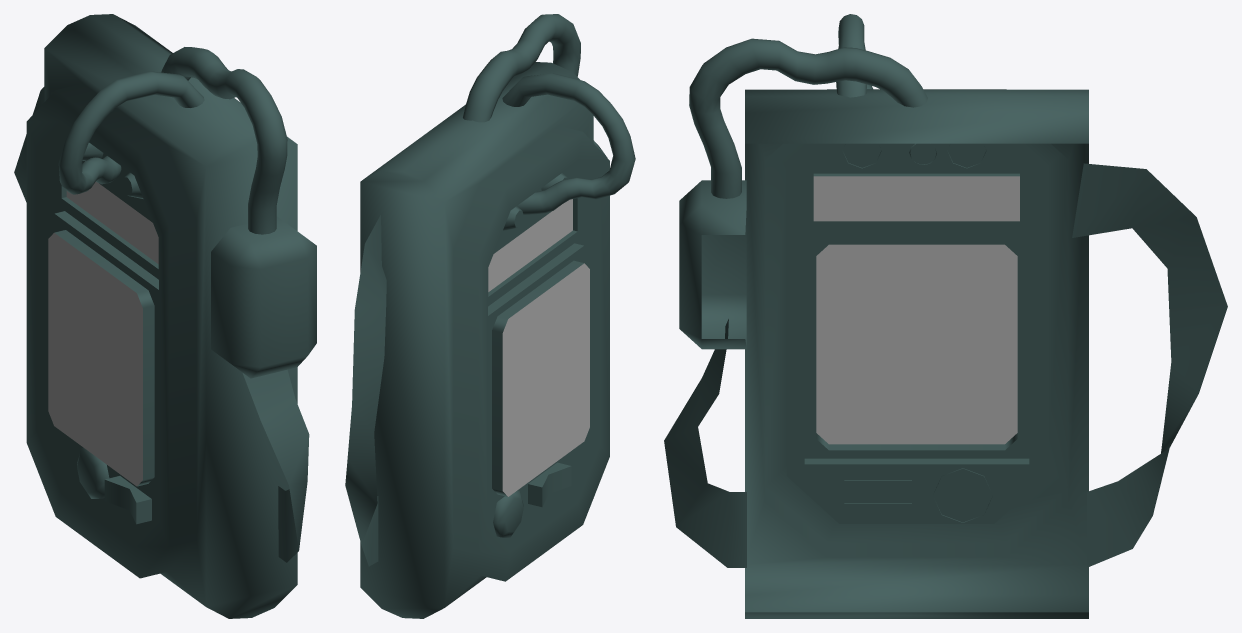
The model's file is Terminal.fbx.
3 renders of one model, left to right at view 1: azimuth 30°, elevation 25°; view 2: azimuth 150°, elevation 25°; view 3: azimuth 270°, elevation 25°, orthographic. The views are drawn at different scales.
Visible parts, largest first — view 1: Korpus, Panel, wires, Small_sreen; view 2: Korpus, Panel, wires, Small_sreen; view 3: Korpus, Panel, wires, Small_sreen.
Boxes of the visible parts, box(x1,y1,x2,y2) form: Korpus: box(26, 14, 316, 618); Panel: box(48, 233, 142, 486); wires: box(14, 87, 309, 562); Small_sreen: box(66, 182, 158, 263); Korpus: box(360, 14, 635, 618); Panel: box(502, 263, 589, 496); wires: box(345, 215, 386, 566); Small_sreen: box(488, 199, 572, 291); Korpus: box(679, 14, 1088, 618); Panel: box(816, 244, 1017, 444); wires: box(664, 163, 1227, 567); Small_sreen: box(813, 176, 1019, 221).
Bounding box in the file's own units: 27.09 × 74.74 × 66.67.
